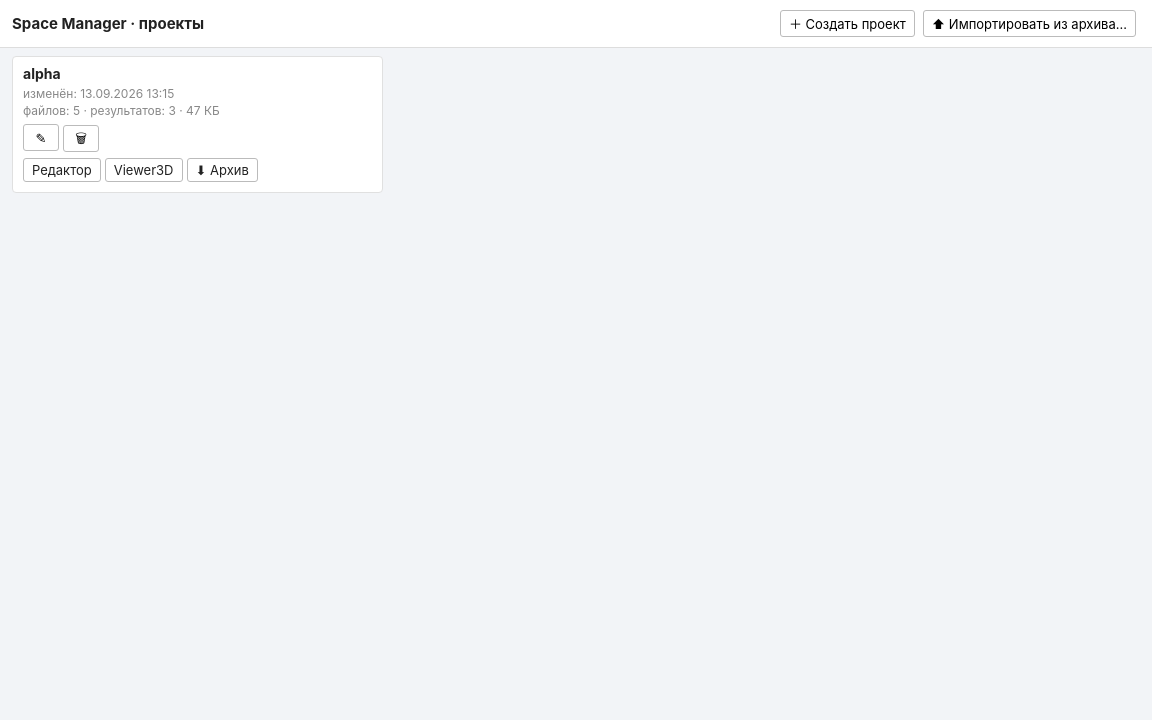
it: переименование (замечание 2) › ✎ → новое имя → PATCH по старому slug → карточка обновлена; slug стабилен
Expected: the heading "alpha" is shown, [23,65,61,82]
Click the button named "Переименовать проект alpha": (41, 138) [23,124,59,151]
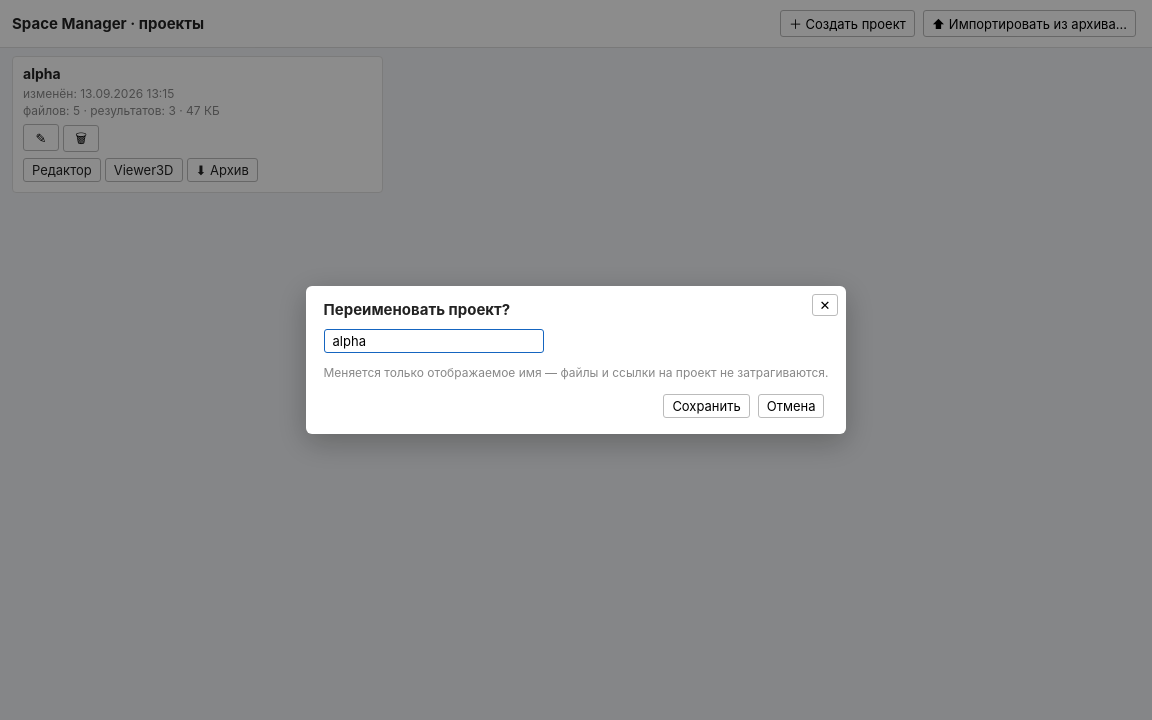
Replace the text in the field named "новое имя проекта" with "Новое Имя": (434, 341) [324,329,544,353]
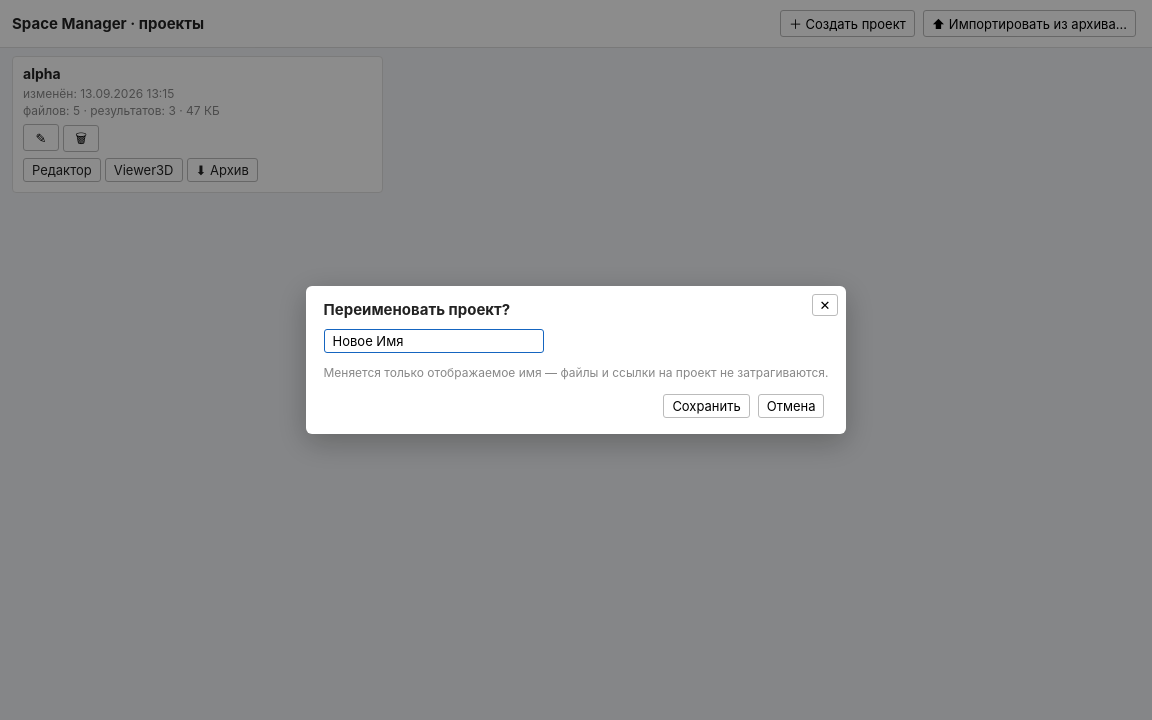
Click the button "Сохранить": (707, 406) [663,394,750,418]
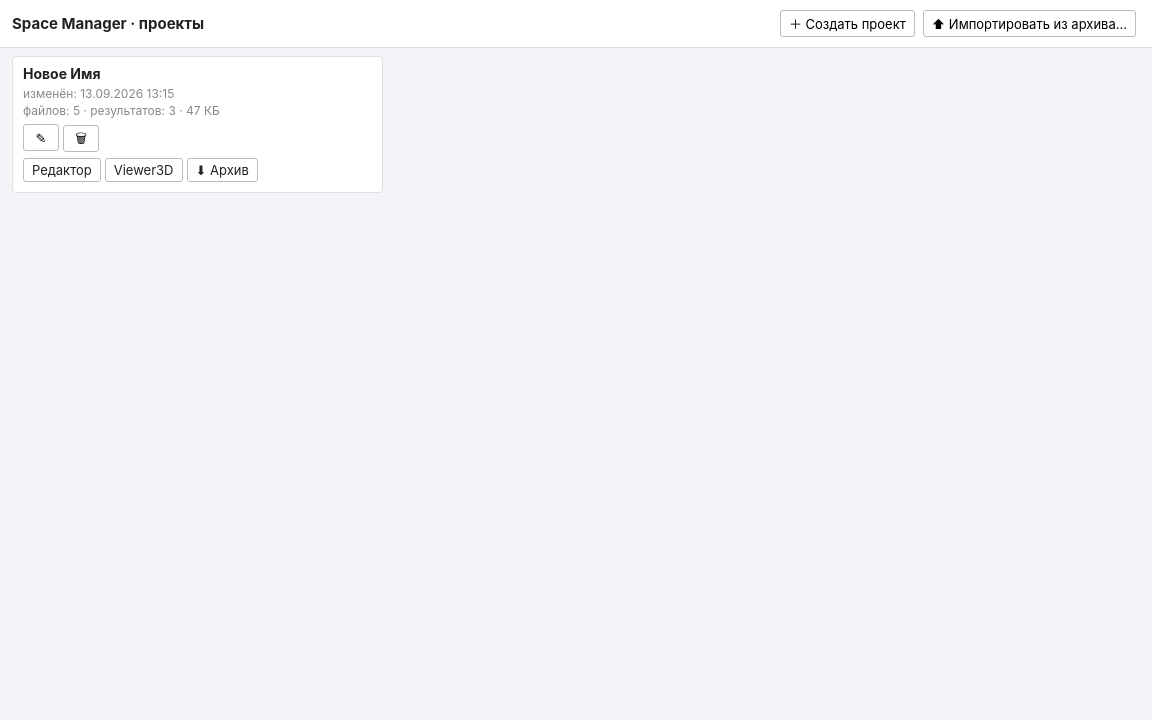
Expected: the heading "alpha" is gone
Expected: the heading "Новое Имя" is shown, [23,65,100,82]
# Slug стабилен: удаление по-прежнему идёт по /api/projects/alpha.
Click the button named "Удалить проект Новое Имя": (81, 138) [63,124,99,152]
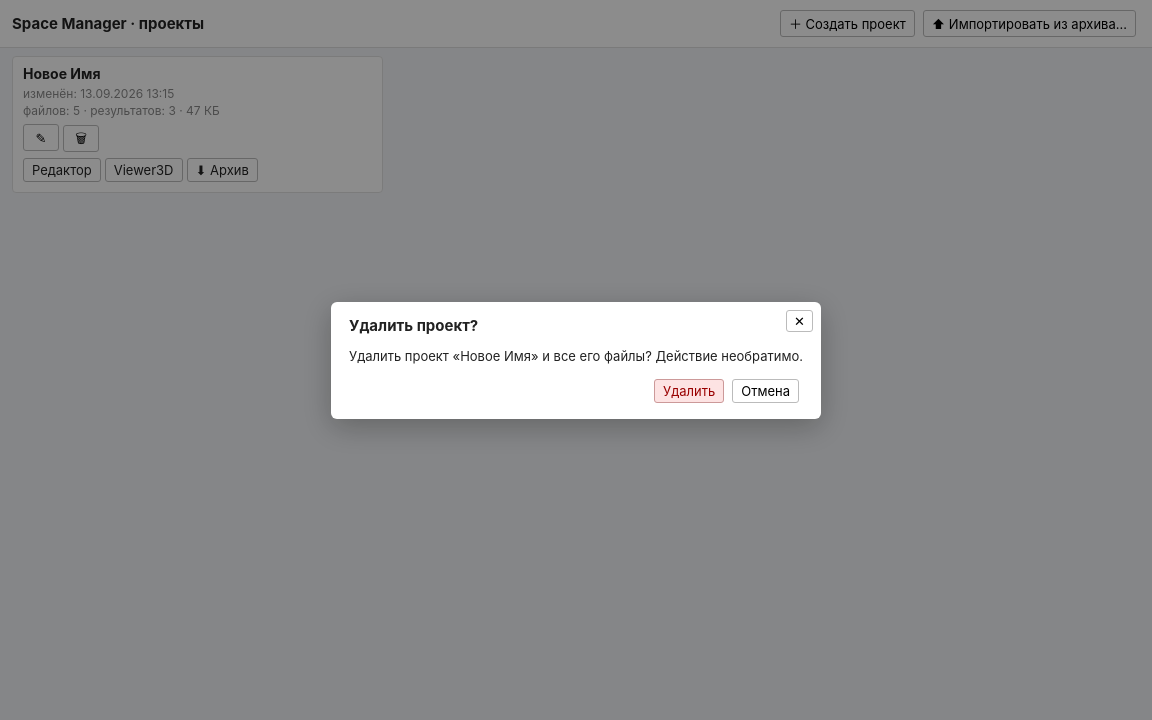
Expected: the text "Действие необратимо" is shown, [349,348,803,364]
Click the button "Удалить": (689, 390) [654,378,724,402]
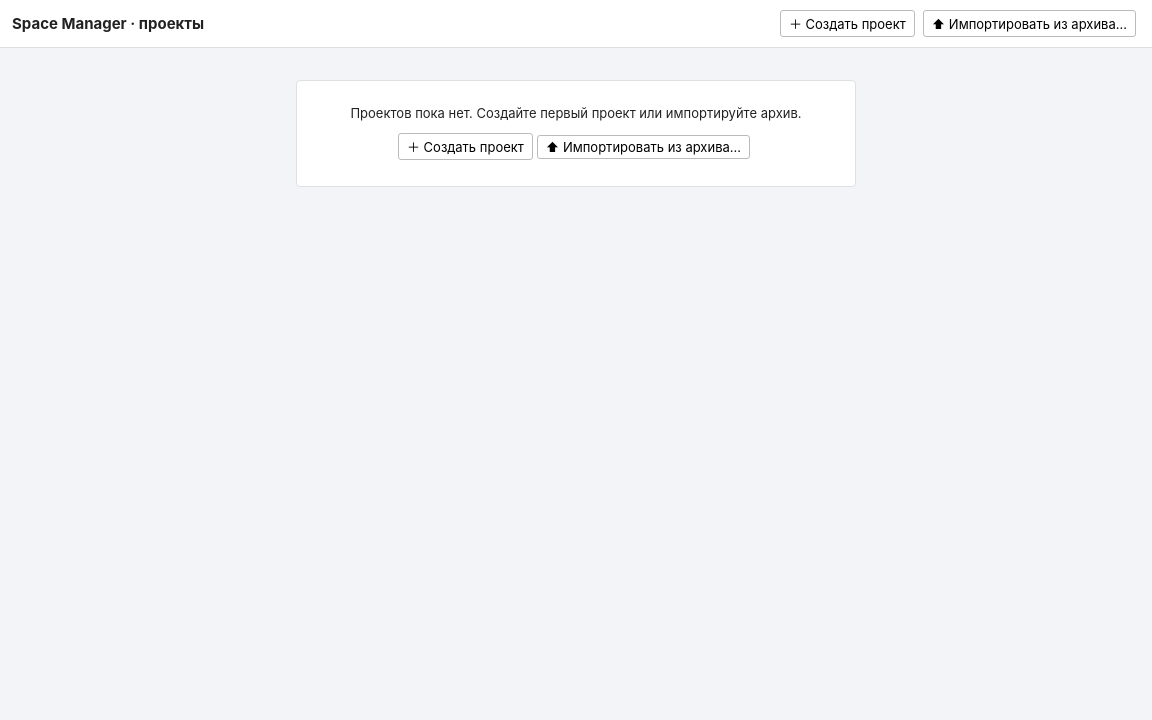
Expected: the text "Проектов пока нет" is shown, [350,105,802,121]
